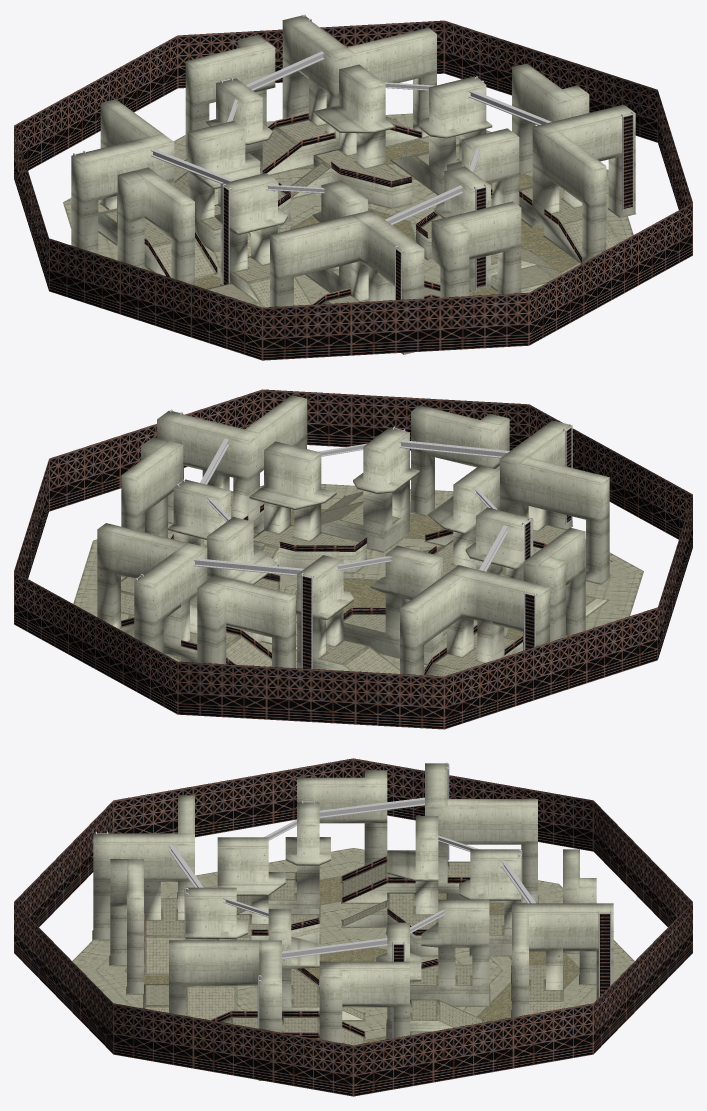
Rendered from BASKET_SWIRLY.fbx.
3 renders of one model, top to bottom at view 1: azimuth 30°, elevation 25°; view 2: azimuth 150°, elevation 25°; view 3: azimuth 270°, elevation 25°, orthographic. The views are drawn at different scales.
Visible parts, largest first — view 1: Basket_Swirly CONCRETE, Basket_Swirly METAL; view 2: Basket_Swirly CONCRETE, Basket_Swirly METAL; view 3: Basket_Swirly CONCRETE, Basket_Swirly METAL.
Boxes of the visible parts, x1,y1,x2,y2 form: Basket_Swirly CONCRETE: (63, 15, 635, 354); Basket_Swirly METAL: (14, 14, 692, 360); Basket_Swirly CONCRETE: (73, 395, 643, 676); Basket_Swirly METAL: (14, 389, 692, 729); Basket_Swirly CONCRETE: (72, 763, 634, 1080); Basket_Swirly METAL: (14, 758, 692, 1096).
Bounding box in the file's own units: 120 × 19.44 × 120.
